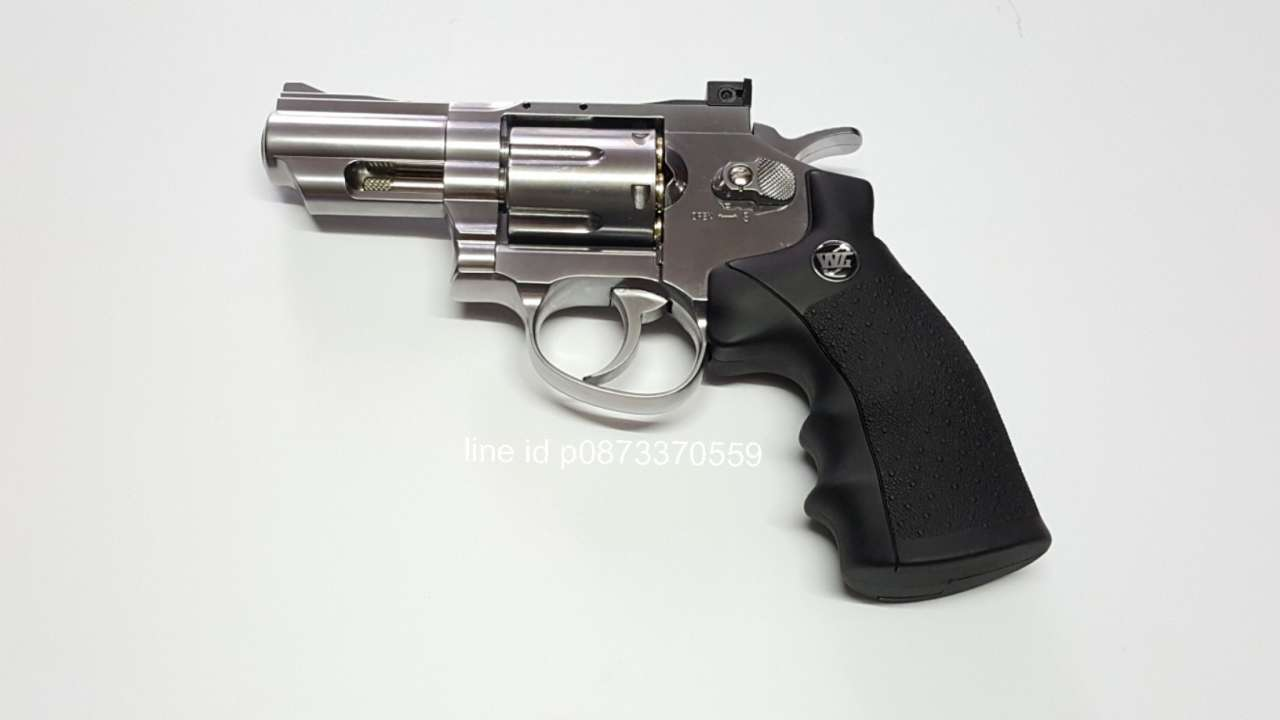gun: (250, 70, 1064, 627)
